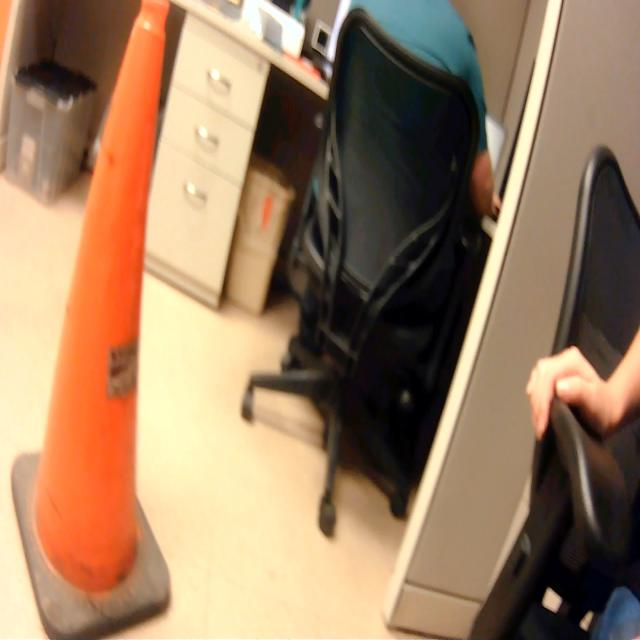traffic cone: (6, 1, 180, 640)
